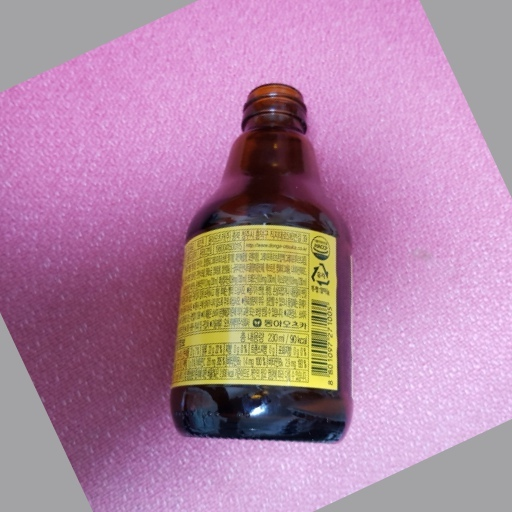Glass_3: (172, 81, 357, 444)
